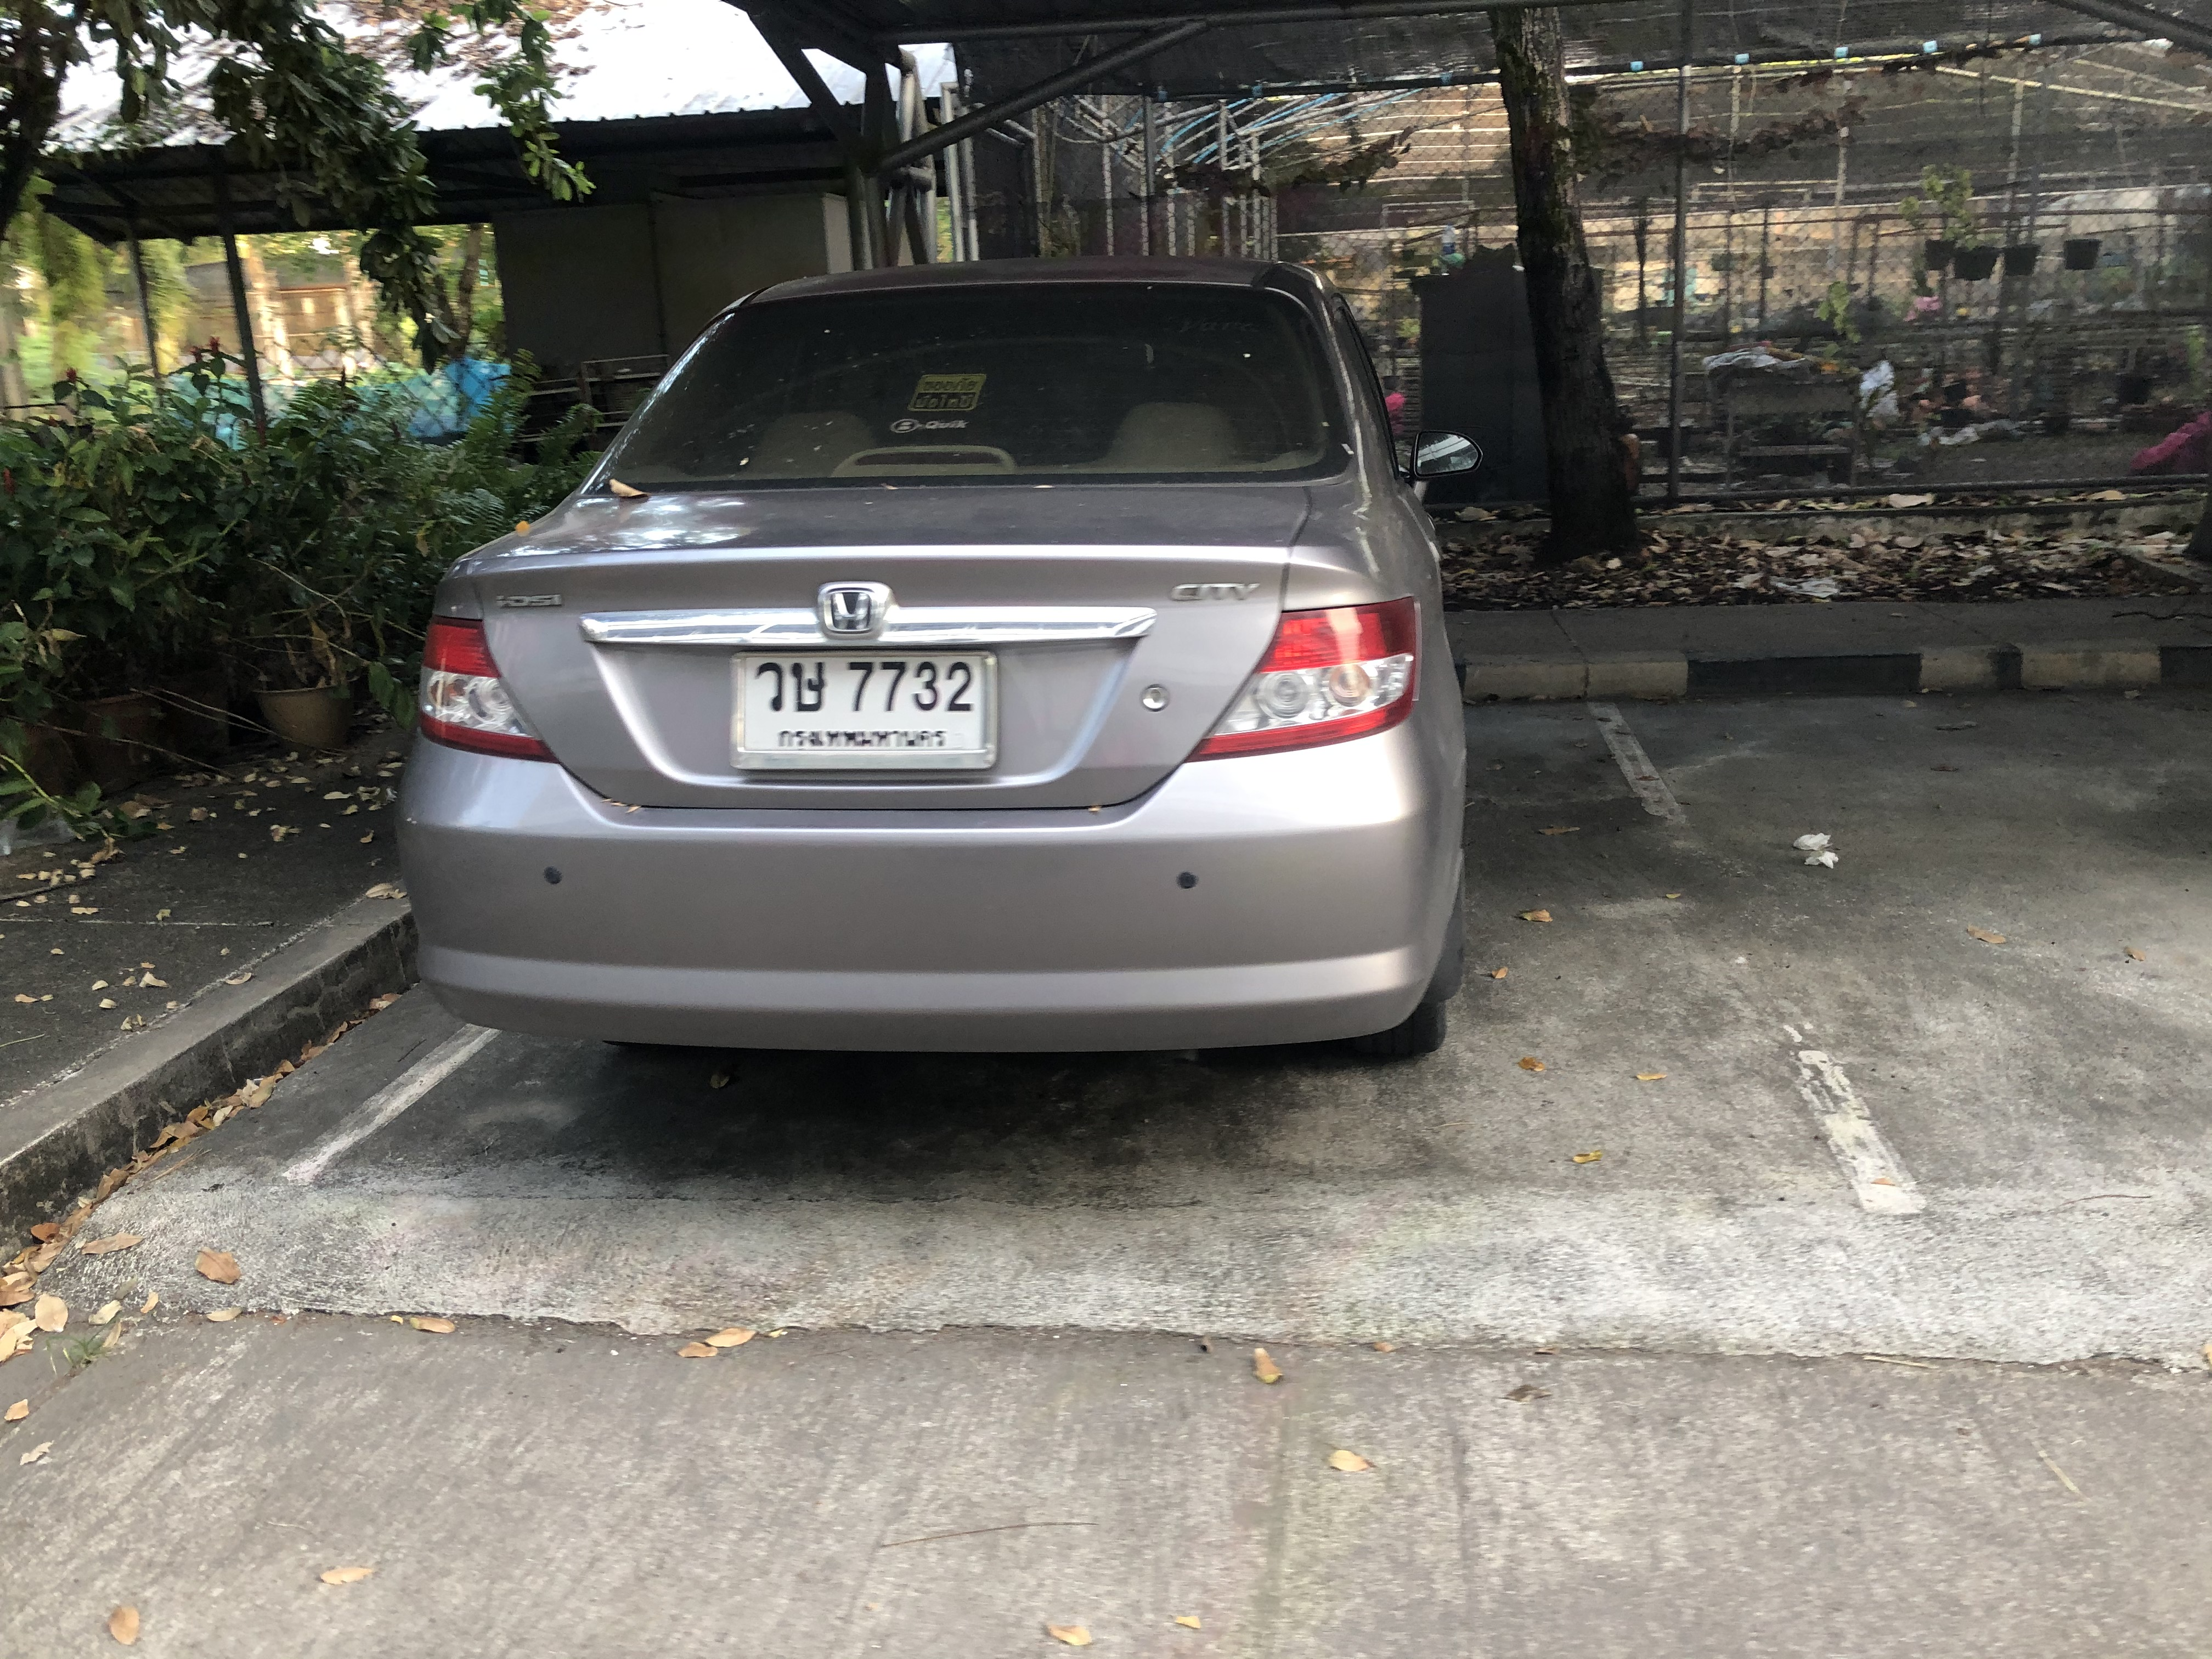in: (737, 655, 984, 753)
out: (721, 641, 1001, 781)
